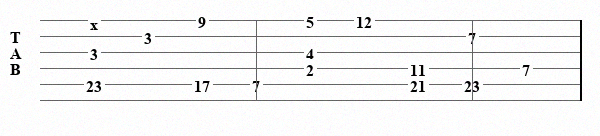11: (410, 61, 430, 76)
12: (356, 13, 376, 28)
17: (194, 77, 214, 92)
2: (306, 61, 318, 76)
21: (410, 77, 430, 92)
23: (86, 77, 106, 92), (464, 77, 484, 92)
3: (90, 45, 102, 60), (144, 29, 156, 44)
4: (306, 45, 318, 60)
5: (306, 13, 318, 28)
7: (252, 77, 264, 92), (468, 29, 480, 44), (522, 61, 534, 76)
9: (198, 13, 210, 28)
x: (90, 15, 102, 26)
